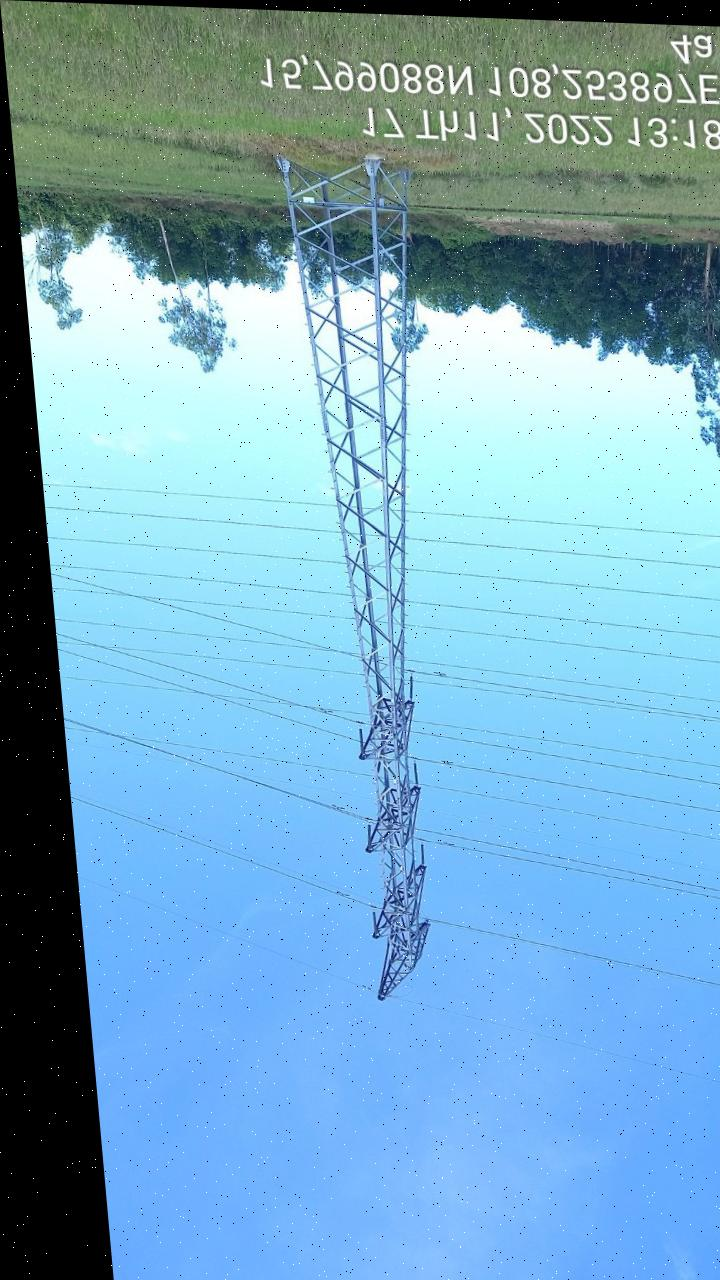tower: (275, 152, 481, 1011)
